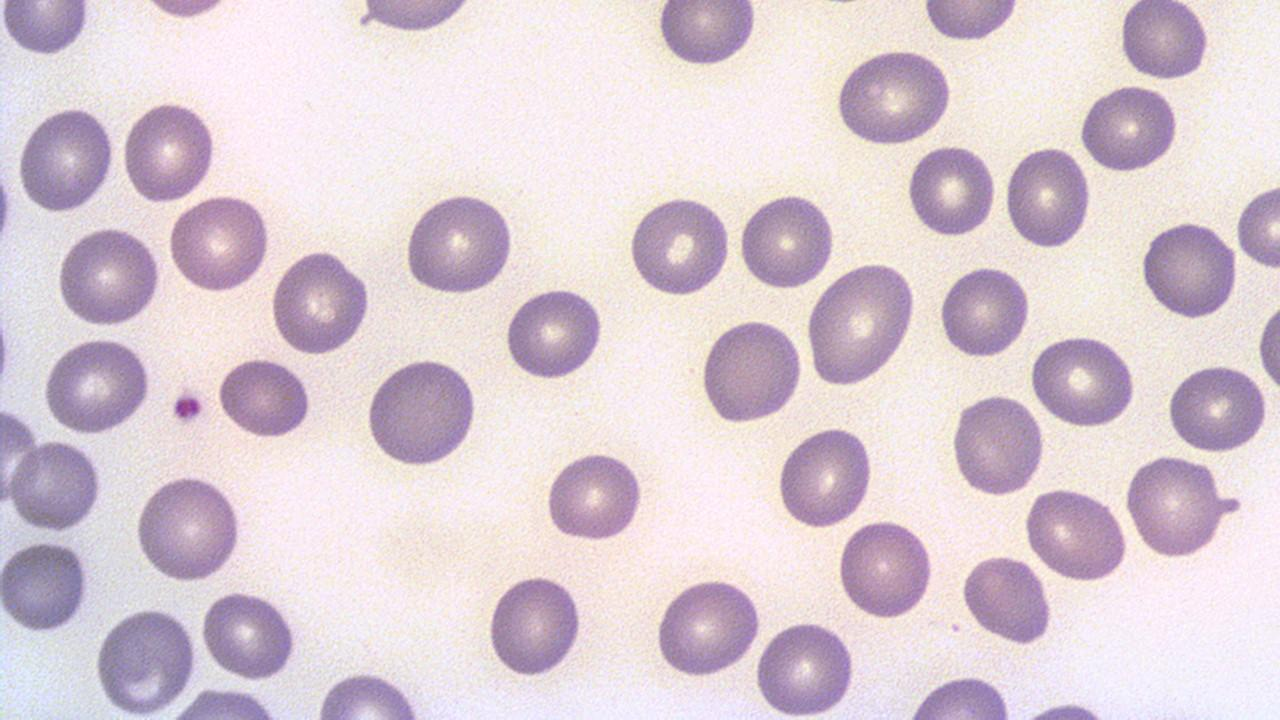Platelets: (168, 384, 212, 428)
RBC: (804, 258, 920, 388), (364, 352, 477, 472), (1121, 452, 1245, 560), (131, 470, 246, 584), (832, 44, 956, 147), (401, 189, 518, 296), (653, 572, 765, 682), (697, 316, 807, 426), (92, 604, 200, 716), (39, 334, 156, 436), (624, 191, 734, 299), (270, 244, 374, 358), (772, 423, 879, 530), (54, 224, 163, 329), (483, 571, 588, 680), (15, 102, 116, 215), (1028, 330, 1140, 430), (833, 516, 938, 622), (167, 192, 274, 296), (754, 616, 860, 718), (948, 390, 1048, 498), (1137, 217, 1239, 321), (1022, 485, 1130, 583), (502, 283, 608, 382), (121, 96, 218, 204), (735, 190, 838, 291), (198, 586, 304, 684), (1164, 360, 1272, 455), (541, 448, 648, 543), (1002, 142, 1092, 253), (5, 438, 106, 536), (1077, 80, 1181, 174), (936, 262, 1032, 362), (904, 140, 998, 239), (958, 551, 1055, 646), (0, 536, 90, 636), (216, 354, 315, 442), (1117, 0, 1213, 83), (655, 1, 759, 70), (311, 666, 430, 718), (902, 672, 1022, 718), (0, 2, 92, 61), (340, 1, 488, 34), (916, 1, 1025, 42), (0, 406, 42, 510), (1235, 179, 1279, 271), (1254, 297, 1280, 398), (133, 0, 237, 22), (0, 155, 18, 255)
